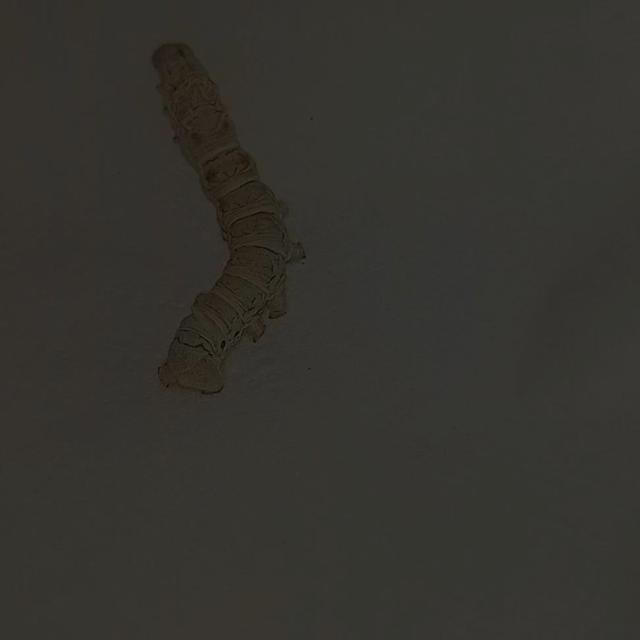Healthy: (130, 36, 319, 402)
